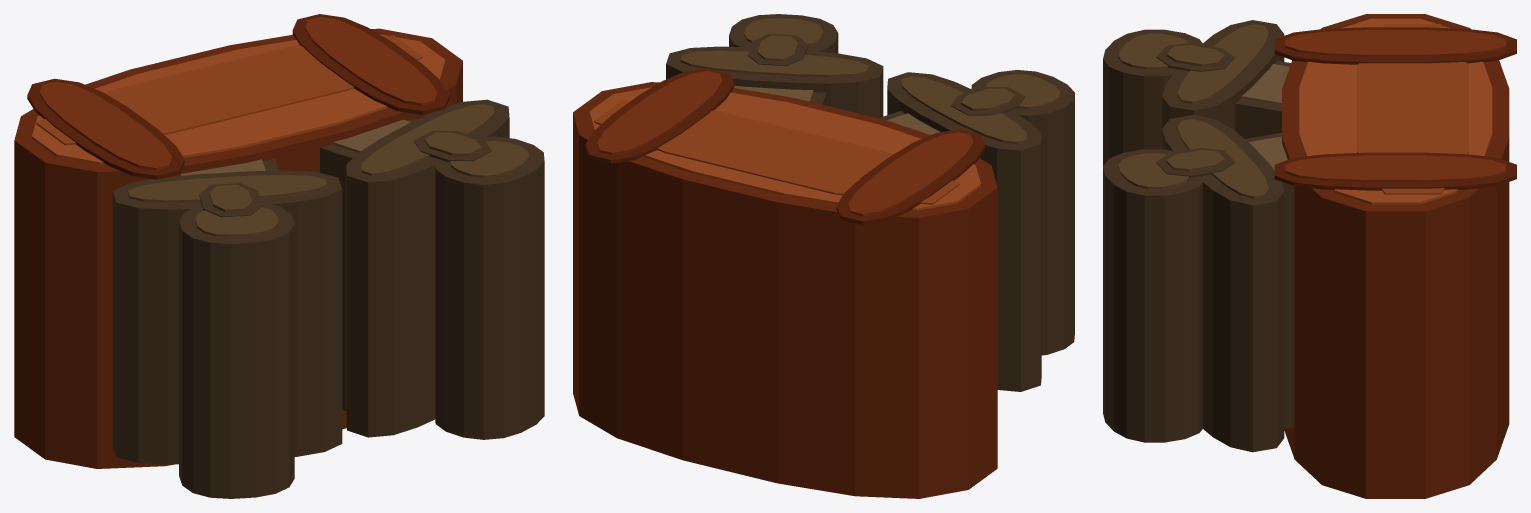
The model's file is bag_espadas_duplas.fbx.
The picture shows the model from 3 angles, left to right: view 1: azimuth 30°, elevation 25°; view 2: azimuth 150°, elevation 25°; view 3: azimuth 270°, elevation 25°; orthographic projection. The views are drawn at different scales.
Visible parts, largest first — view 1: bag_espadas_duplas_mochila; view 2: bag_espadas_duplas_mochila; view 3: bag_espadas_duplas_mochila.
Part boxes in pixels (x1,y1,x2,y2): bag_espadas_duplas_mochila: (14, 14, 544, 498); bag_espadas_duplas_mochila: (573, 14, 1074, 498); bag_espadas_duplas_mochila: (1103, 14, 1516, 498).
Size of the model in its own units: 2.71 by 1.89 by 2.4.
1 material, 1 textured.
